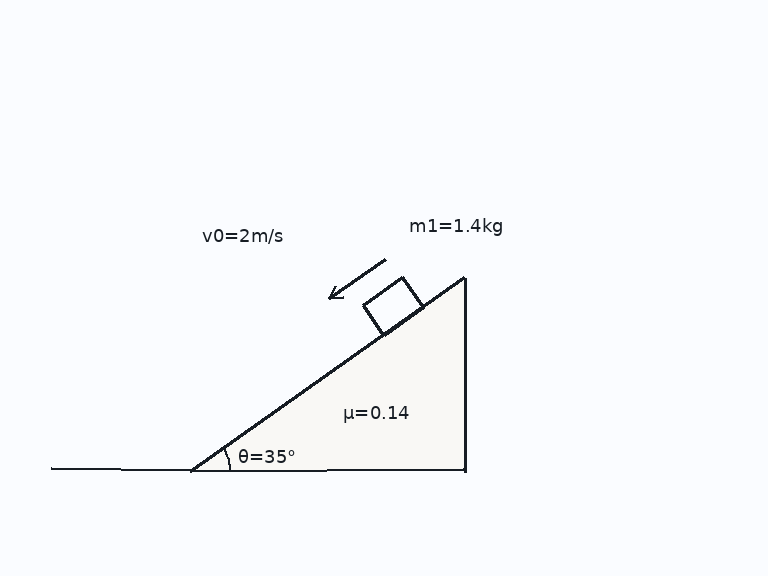block: (361, 275, 425, 337)
ramp: (188, 276, 466, 472)
